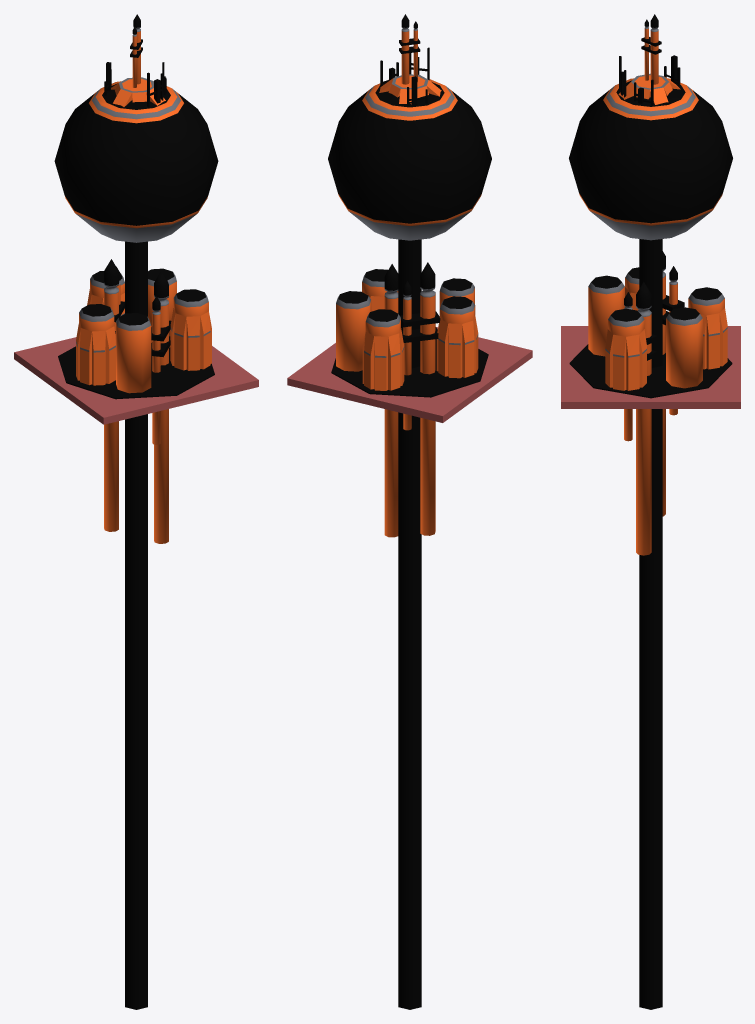
The model's file is Char_HAL_Body.FBX.
3 views of the same model, side by side, from view 1: azimuth 30°, elevation 25°; view 2: azimuth 150°, elevation 25°; view 3: azimuth 270°, elevation 25° (orthographic).
Parts seen in each view (by area): view 1: Cylinder001; view 2: Cylinder001; view 3: Cylinder001.
Part boxes in pixels (left/top/right/bottom): Cylinder001: left=14, top=14, right=258, bottom=1009; Cylinder001: left=287, top=14, right=532, bottom=1009; Cylinder001: left=561, top=14, right=740, bottom=1009.
Size of the model in its own units: 35 by 213 by 35.
